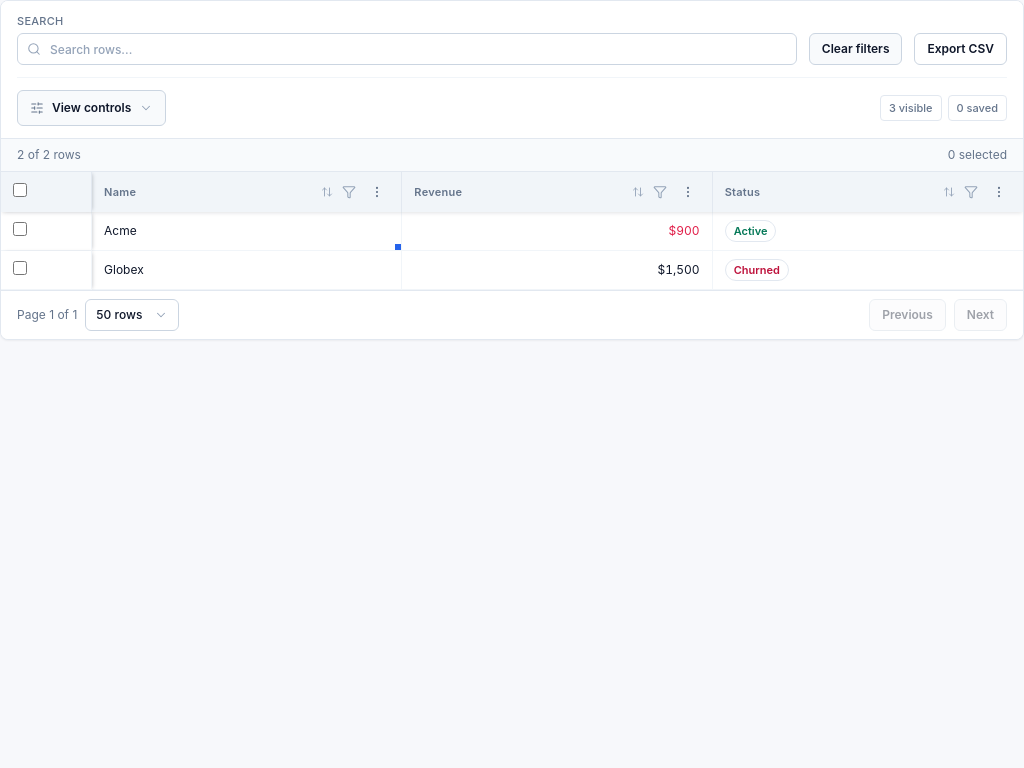
Scenario: DataGrid feature flags › collapses advanced toolbar controls behind the view controls disclosure by default
The width and height of the screenshot is (1024, 768).
Expected: the text "Advanced view setup" is not shown
Expected: the text "View name" is not shown
Click the button "View controls": (92, 108) left=17, top=90, right=166, bottom=126
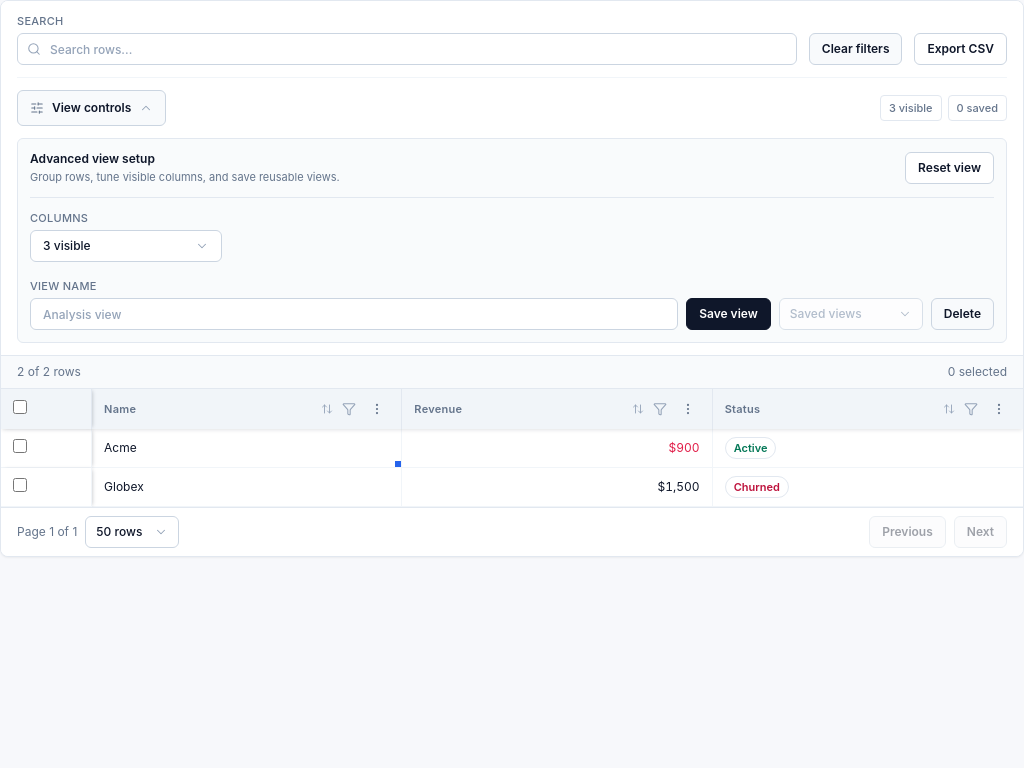
Now the text "Advanced view setup" is shown, box left=30, top=151, right=155, bottom=166
Now the text "View name" is shown, box left=30, top=278, right=678, bottom=330
